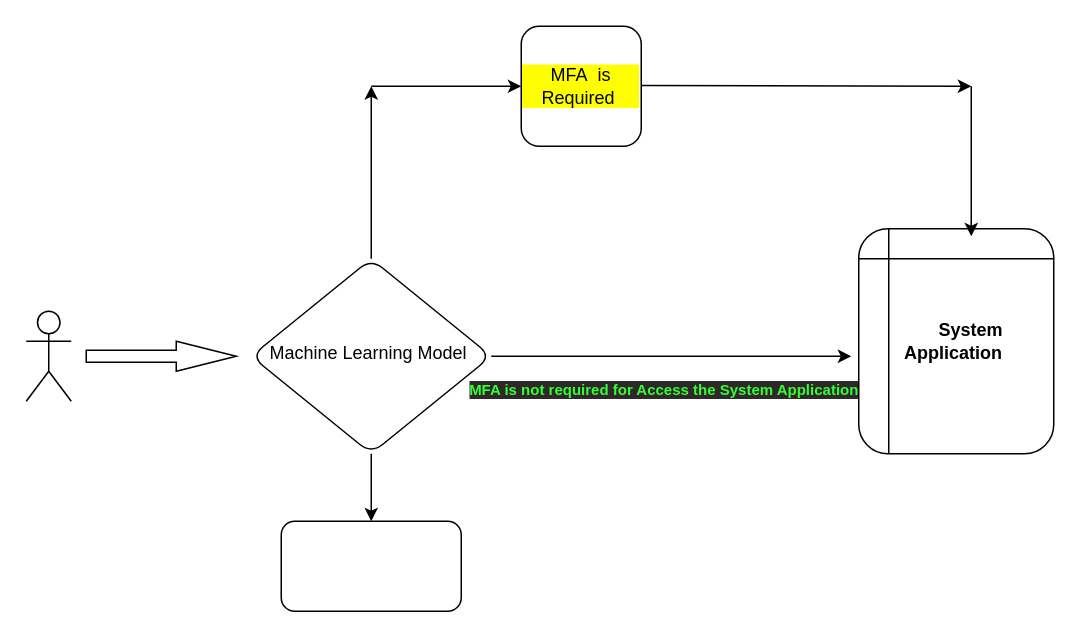
Image size: 1080x638. Some labels were removed from this diagram. The shapes that lost their labels are listed below. From the top down, each one's centre as x and y in pixels, then its label:
At pixel 48 355: "Actor".
At pixel 370 565: "Access Denied".
